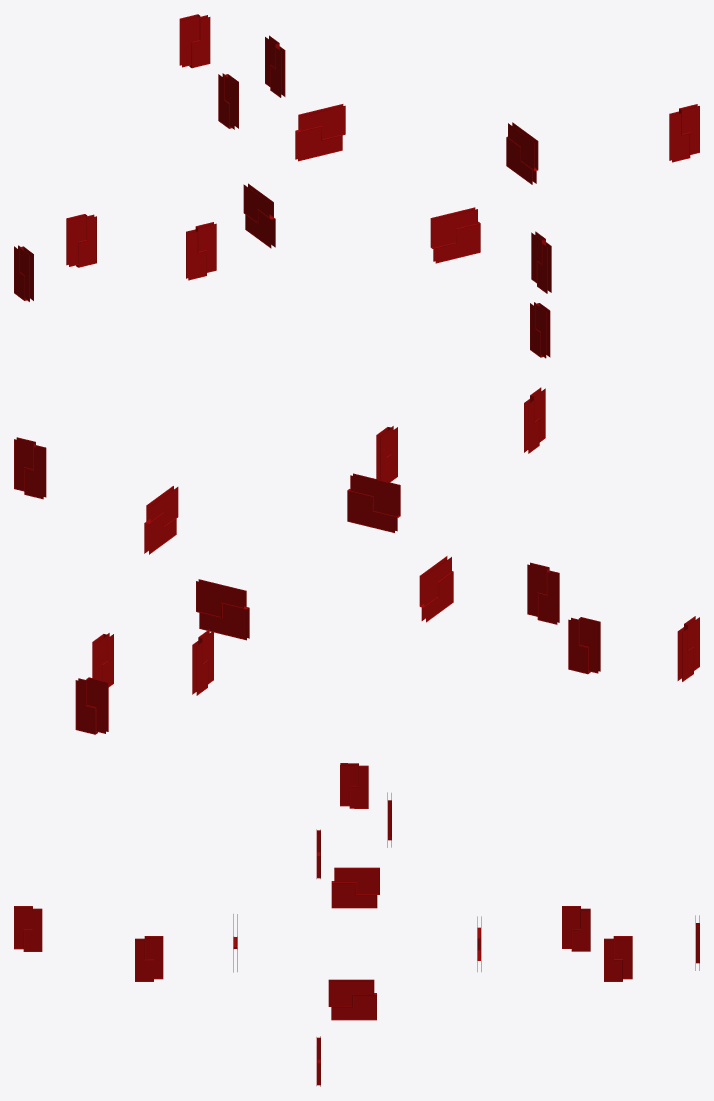
Rendered from Doors.fbx.
The picture shows the model from 3 angles, top to bottom: view 1: azimuth 30°, elevation 25°; view 2: azimuth 150°, elevation 25°; view 3: azimuth 270°, elevation 25°; orthographic projection. The views are drawn at different scales.
Visible parts, largest first — view 1: pCube225 (×7), pCube226 (×6), pCube221 (×4), pCube224 (×4); view 2: pCube226 (×7), pCube225 (×7), pCube221 (×4), pCube224 (×4); view 3: pCube225 (×5), pCube226 (×5), pCube221 (×2), pCube224 (×2).
Boxes of the visible parts, x1,y1,x2,y2 form: pCube225 (×7): (19, 14, 699, 358); pCube226 (×6): (76, 15, 690, 293); pCube221 (×4): (243, 104, 538, 248); pCube224 (×4): (245, 126, 536, 263); pCube226 (×7): (24, 399, 693, 734); pCube225 (×7): (14, 387, 600, 733); pCube221 (×4): (146, 473, 451, 617); pCube224 (×4): (144, 489, 453, 640); pCube225 (×5): (14, 763, 632, 979); pCube226 (×5): (23, 765, 622, 981); pCube221 (×2): (328, 867, 379, 1006); pCube224 (×2): (331, 881, 377, 1020).
Bounding box in the file's own units: 3909 × 293 × 4023.
